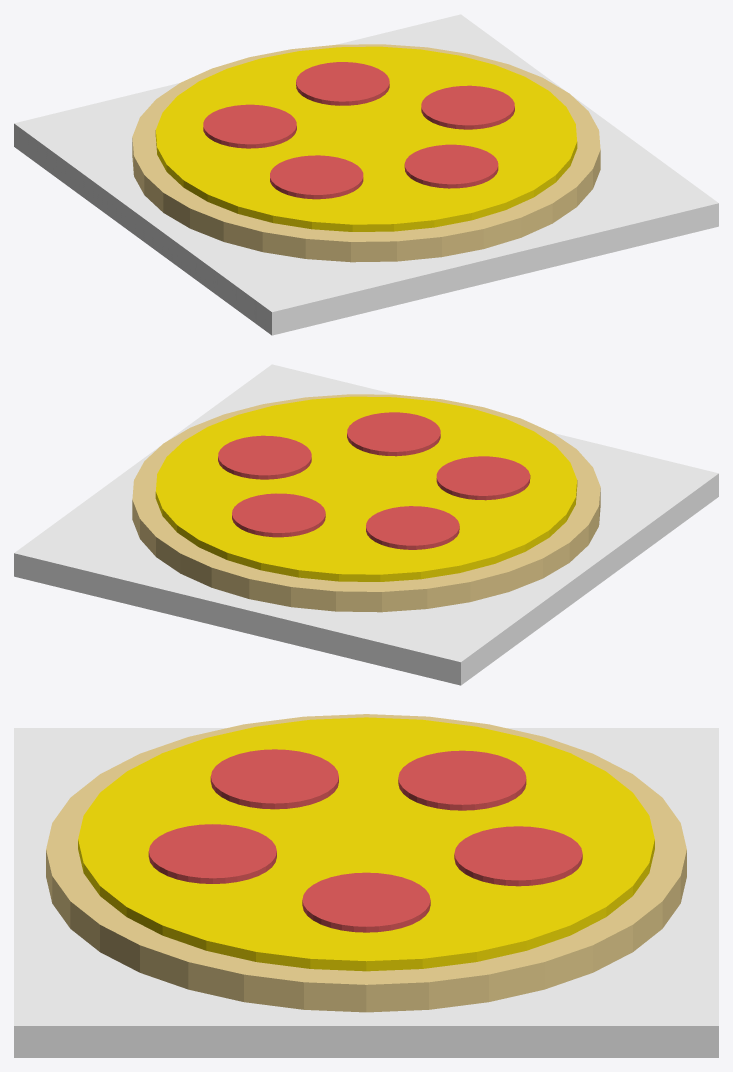
File: pizza.glb
3 renders of one model, top to bottom at view 1: azimuth 30°, elevation 25°; view 2: azimuth 150°, elevation 25°; view 3: azimuth 270°, elevation 25°, orthographic. The views are drawn at different scales.
Visible parts, largest first — view 1: Cube, Cylinder.001, Cylinder, Cylinder.006, Cylinder.004, Cylinder.005, Cylinder.002, Cylinder.003; view 2: Cube, Cylinder.001, Cylinder, Cylinder.003, Cylinder.004, Cylinder.005, Cylinder.002, Cylinder.006; view 3: Cylinder.001, Cube, Cylinder, Cylinder.004, Cylinder.002, Cylinder.003, Cylinder.005, Cylinder.006.
Part boxes in pixels (box(x1,y1,x2,y2)): Cube: box(14, 14, 718, 335); Cylinder.001: box(155, 46, 577, 231); Cylinder: box(132, 44, 600, 262); Cylinder.006: box(404, 144, 498, 188); Cylinder.004: box(203, 104, 296, 148); Cylinder.005: box(270, 155, 363, 199); Cylinder.002: box(421, 85, 514, 129); Cylinder.003: box(296, 62, 389, 105); Cube: box(14, 364, 718, 685); Cylinder.001: box(155, 396, 577, 581); Cylinder: box(132, 394, 600, 612); Cylinder.003: box(232, 493, 325, 537); Cylinder.004: box(366, 506, 459, 549); Cylinder.005: box(436, 456, 530, 500); Cylinder.002: box(218, 435, 311, 479); Cylinder.006: box(347, 412, 440, 456); Cylinder.001: box(78, 717, 654, 971); Cube: box(14, 728, 718, 1057); Cylinder: box(46, 714, 686, 1012); Cylinder.004: box(398, 750, 526, 810); Cylinder.002: box(302, 872, 430, 932); Cylinder.003: box(454, 826, 582, 886); Cylinder.005: box(210, 749, 338, 809); Cylinder.006: box(148, 824, 276, 883).
Bounding box in the file's own units: 2.2 × 0.265 × 2.2.
